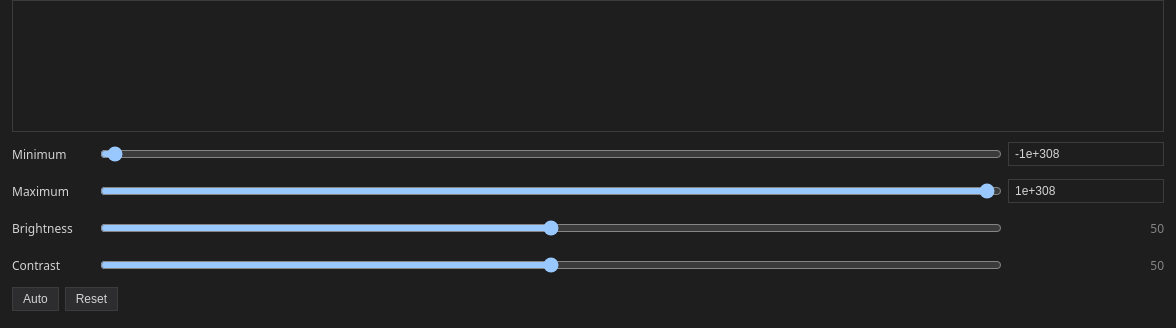
Test: DataSetForm histogram range › keeps the requested contrast over an extreme domain
Set the slider labelled "Contrast" to "75" at (772, 265), box [100,252,1002,278]
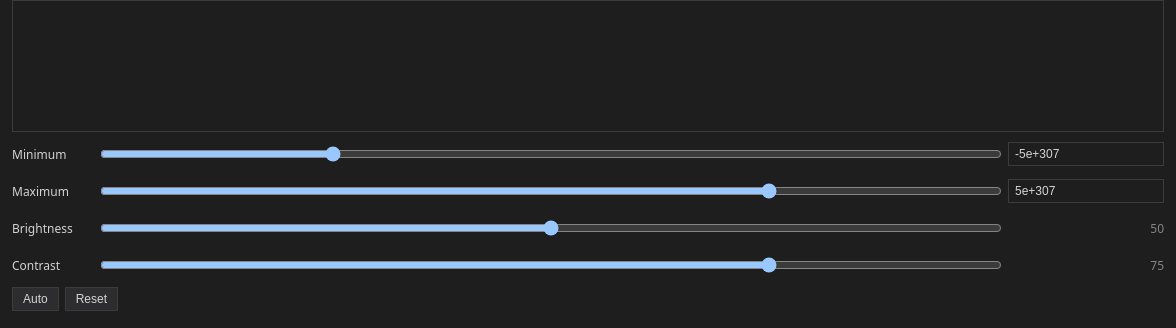
Check: the number field named "Minimum" holds "307", box [1008,142,1164,166]
Check: the number field named "Maximum" holds "307", box [1008,179,1164,203]
